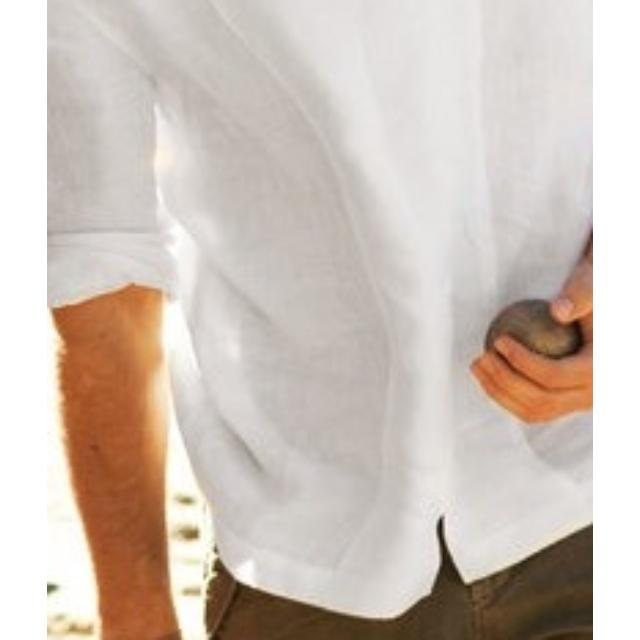linen: (47, 1, 593, 492)
